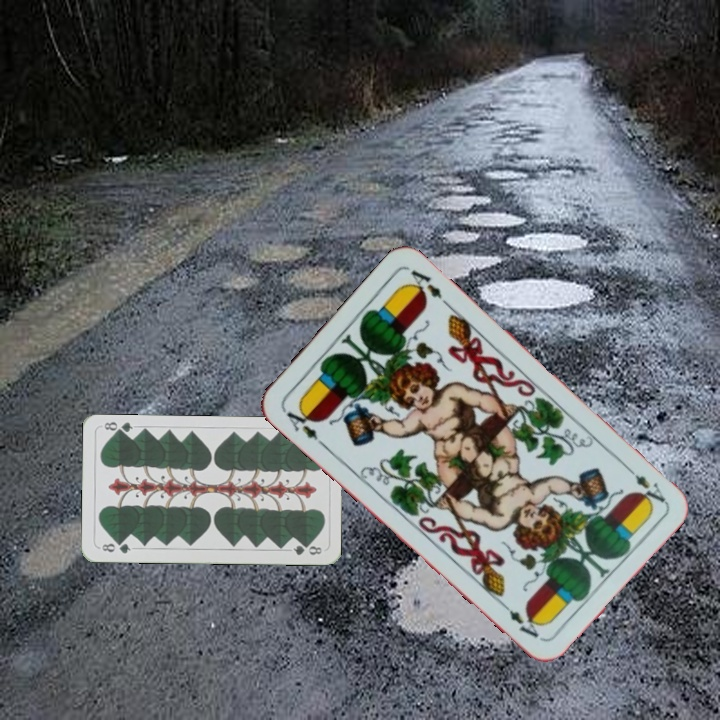EA: (279, 402, 328, 450), (620, 461, 669, 506)
G8: (96, 538, 133, 556)
